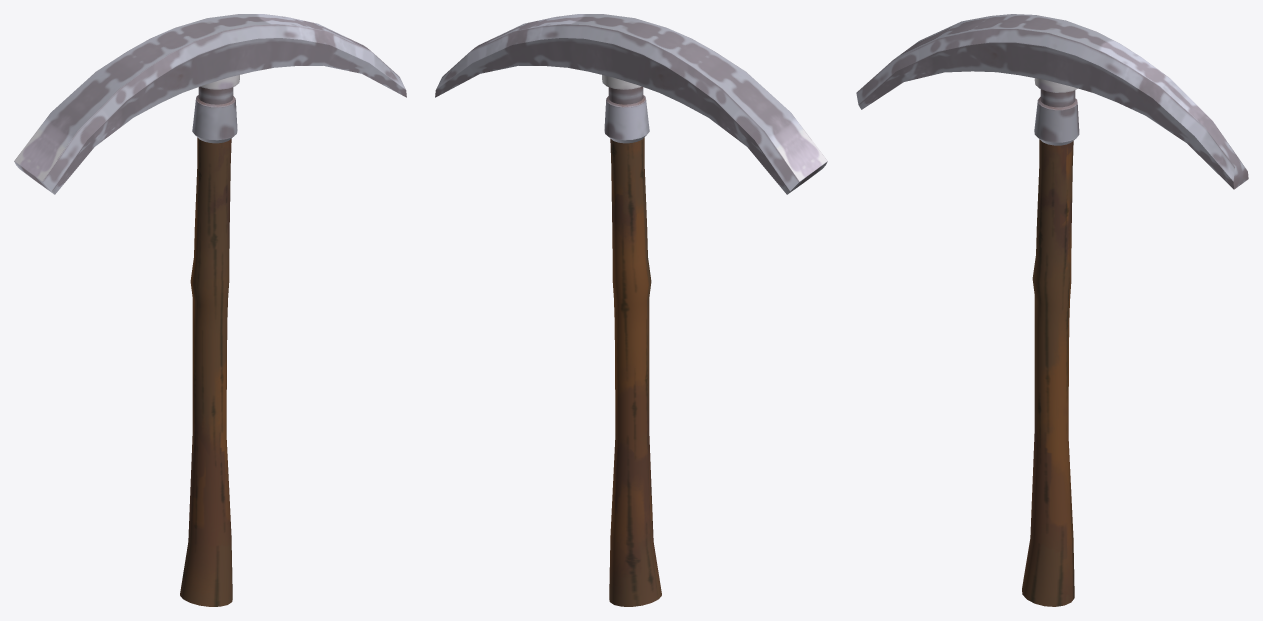
Rendered from Pickaxe_Steel.gltf.
The picture shows the model from 3 angles, left to right: view 1: azimuth 30°, elevation 25°; view 2: azimuth 150°, elevation 25°; view 3: azimuth 330°, elevation 25°; orthographic projection.
Visible parts, largest first — view 1: Pickaxe_Steel; view 2: Pickaxe_Steel; view 3: Pickaxe_Steel.
Boxes of the visible parts, x1=… form: Pickaxe_Steel: x1=14, y1=14, x2=406, y2=606; Pickaxe_Steel: x1=435, y1=14, x2=827, y2=606; Pickaxe_Steel: x1=856, y1=14, x2=1248, y2=606.
Bounding box in the file's own units: 0.8129 × 1.2 × 0.1357.
1 material, 1 textured.
